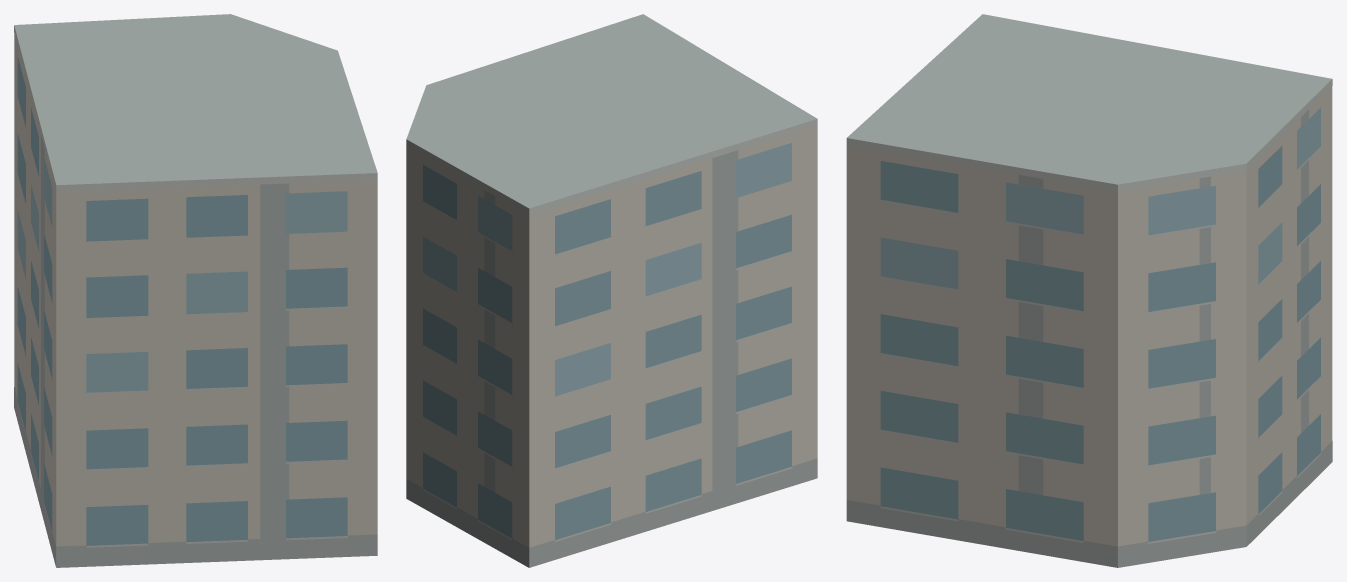
Rendered from survey-upis-32562488.glb.
3 views of the same model, side by side, from view 1: azimuth 30°, elevation 25°; view 2: azimuth 150°, elevation 25°; view 3: azimuth 270°, elevation 25° (orthographic). The views are drawn at different scales.
Parts seen in each view (by area): view 1: survey-upis-32562488.tmp; view 2: survey-upis-32562488.tmp; view 3: survey-upis-32562488.tmp.
Part boxes in pixels (<box>): survey-upis-32562488.tmp: <box>14,14,377,567</box>; survey-upis-32562488.tmp: <box>406,14,817,567</box>; survey-upis-32562488.tmp: <box>846,14,1332,567</box>.
Size of the model in its own units: 12.61 by 13.2 by 15.17.
